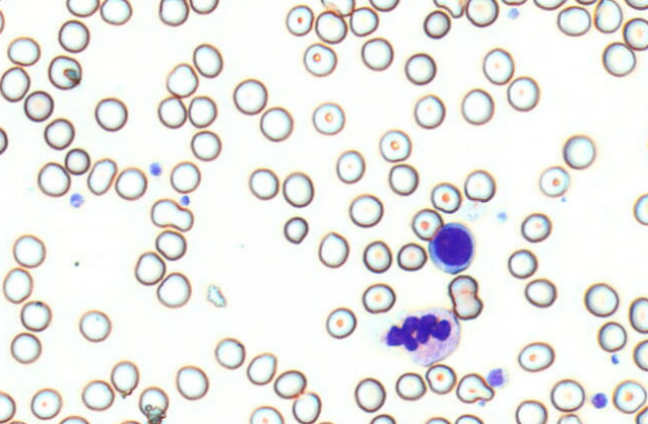GRAN: (382, 308, 463, 365)
LYM: (428, 219, 479, 274)
PLT: (486, 367, 512, 389), (590, 391, 609, 411), (68, 192, 85, 209), (505, 7, 522, 20), (148, 162, 163, 176), (180, 195, 192, 208)
RBC: (447, 274, 483, 320), (156, 271, 191, 308), (233, 78, 267, 115), (584, 282, 619, 317), (461, 88, 494, 125), (482, 47, 514, 85), (602, 41, 636, 76), (348, 193, 383, 227), (612, 379, 646, 414), (550, 378, 585, 412), (259, 106, 293, 141), (48, 55, 82, 90), (506, 75, 539, 111), (37, 161, 70, 196), (562, 134, 595, 169), (175, 365, 208, 400), (282, 171, 314, 207), (413, 93, 445, 129), (318, 231, 349, 268), (517, 341, 554, 372), (12, 234, 45, 268), (94, 97, 127, 131), (303, 42, 336, 76), (312, 101, 345, 135), (354, 377, 386, 412), (2, 267, 33, 303), (138, 386, 168, 423), (86, 158, 116, 195), (314, 10, 347, 43), (115, 166, 147, 200), (166, 63, 198, 97), (361, 37, 393, 71), (192, 43, 223, 78), (411, 208, 443, 241), (463, 169, 495, 202), (79, 309, 111, 342), (404, 52, 436, 85), (379, 129, 411, 162), (134, 251, 165, 285), (361, 282, 395, 313), (557, 5, 591, 36), (0, 66, 30, 101), (110, 360, 139, 396), (30, 387, 62, 419), (246, 352, 277, 385), (81, 379, 114, 410), (248, 167, 279, 200), (58, 19, 89, 52), (335, 149, 365, 183), (325, 307, 356, 339), (10, 331, 41, 363), (214, 337, 245, 369), (43, 117, 74, 149), (273, 369, 306, 399), (362, 240, 392, 273), (187, 95, 217, 128), (7, 36, 40, 66), (20, 300, 51, 331), (430, 182, 461, 213), (155, 229, 186, 260), (190, 130, 221, 161), (291, 391, 321, 423), (388, 163, 418, 195), (539, 165, 569, 197), (170, 161, 200, 193), (593, 0, 622, 33), (507, 248, 537, 279), (520, 212, 551, 242), (597, 321, 627, 352), (23, 90, 53, 121), (524, 278, 556, 307), (157, 96, 186, 128), (396, 242, 427, 271), (285, 4, 313, 36), (465, 0, 498, 27), (349, 6, 378, 36), (395, 372, 426, 400), (423, 9, 450, 39), (100, 0, 132, 25), (623, 17, 647, 50), (158, 0, 188, 26), (515, 399, 547, 423), (64, 147, 90, 175), (629, 296, 647, 333), (249, 405, 283, 423), (66, 0, 99, 17), (0, 390, 15, 423), (633, 339, 647, 371), (633, 193, 647, 225), (189, 0, 218, 14), (368, 0, 399, 11), (533, 0, 566, 10), (454, 413, 483, 423), (369, 413, 395, 423), (556, 413, 581, 423), (58, 415, 89, 423), (0, 126, 8, 154), (625, 0, 647, 10), (635, 406, 647, 423), (424, 416, 450, 423), (501, 0, 527, 6), (0, 8, 5, 34), (118, 419, 141, 424), (575, 0, 597, 5), (8, 420, 26, 424)
Schistocyte: (148, 198, 195, 232), (456, 372, 494, 404), (427, 363, 456, 395), (431, 0, 466, 19), (319, 0, 356, 16), (205, 284, 229, 308)
